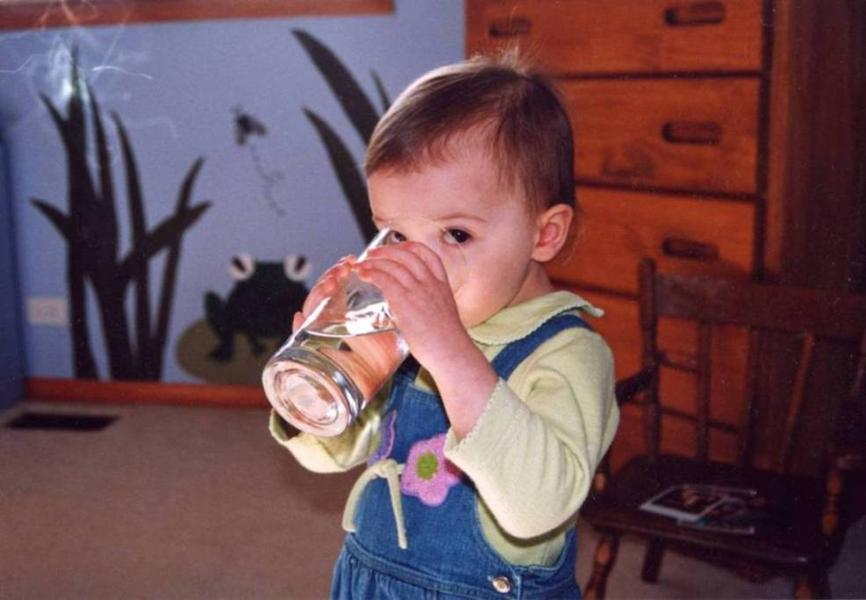person: (264, 55, 621, 600)
